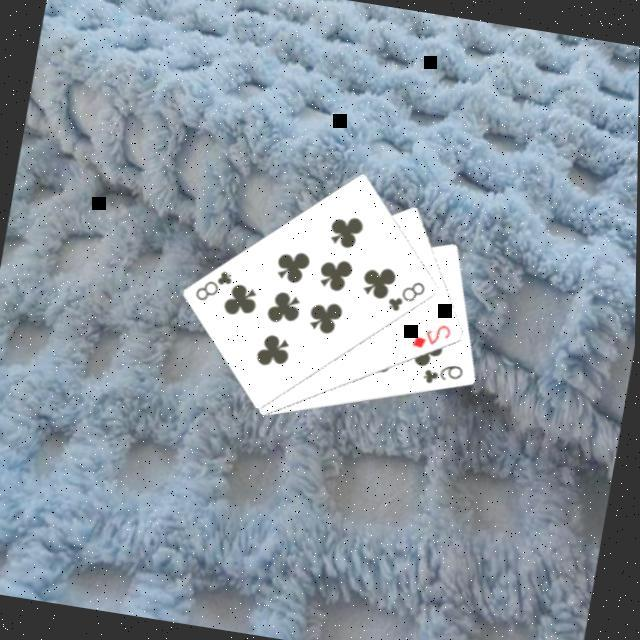2D: (411, 316, 458, 354)
8C: (193, 262, 240, 308), (386, 274, 434, 318)
9C: (421, 356, 471, 392)
